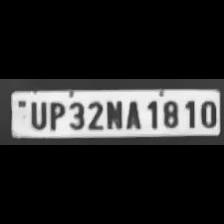0: (198, 98, 218, 128)
1: (141, 98, 158, 130), (180, 98, 198, 128)
2: (86, 98, 104, 130)
3: (65, 99, 84, 130)
8: (160, 98, 180, 130)
A: (122, 97, 142, 129)
N: (104, 98, 122, 130)
P: (46, 99, 64, 130)
U: (26, 99, 46, 129)
